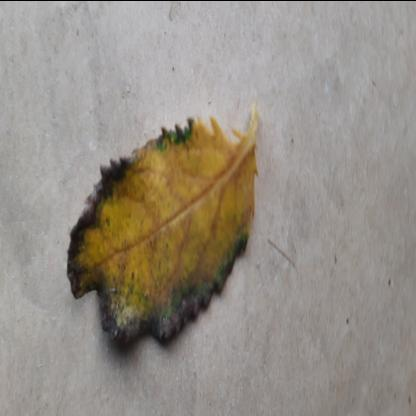black-spot: (66, 81, 262, 358)
